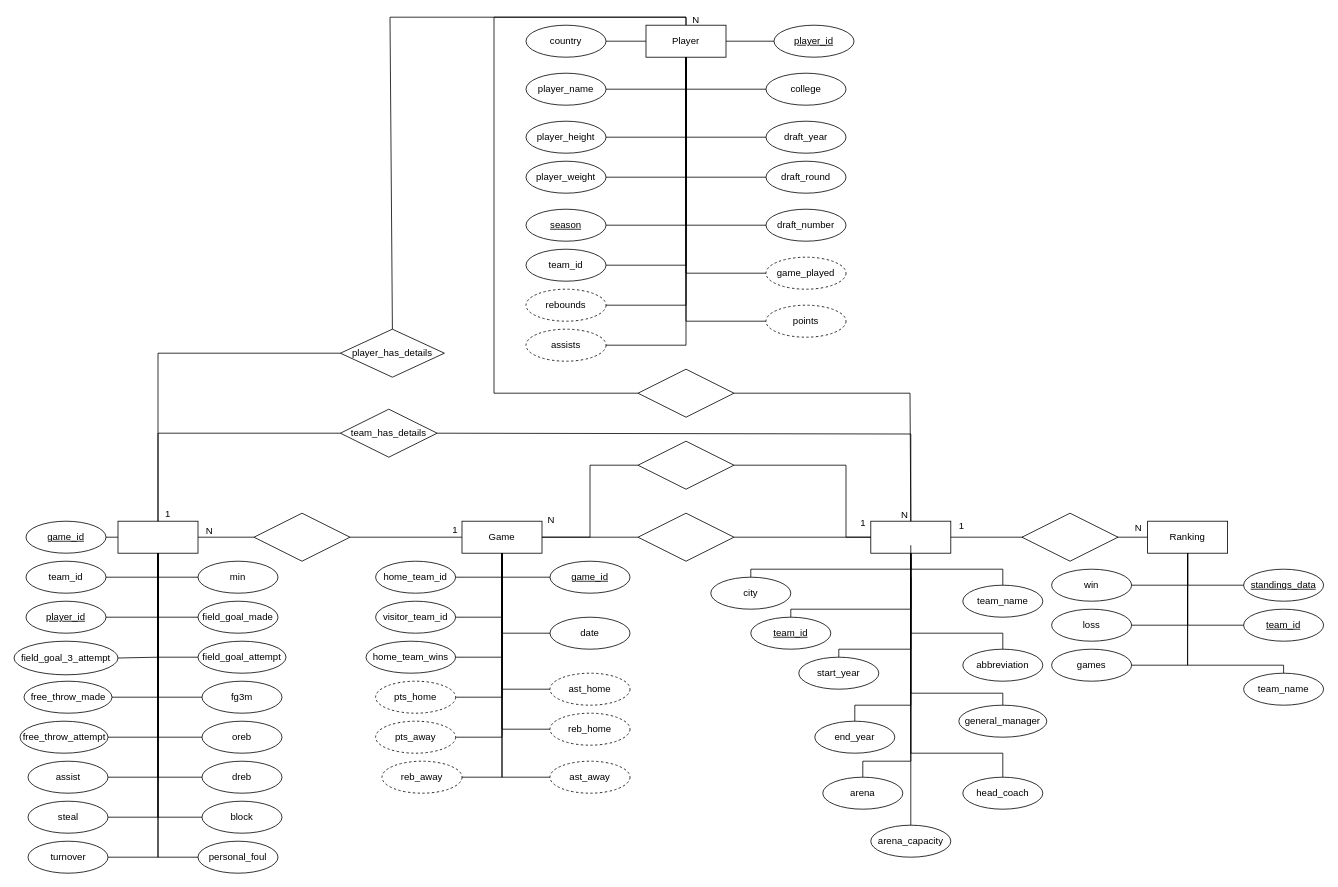
The diagram is 1338 pixels wide and 887 high, and some of its shapes have lost their labels. Each missing label, with the box of its shape:
Game Details: (117, 520, 198, 553)
has_details: (253, 512, 350, 561)
has_member: (637, 368, 734, 417)
has_rank: (1021, 512, 1118, 561)
plays_home: (637, 440, 734, 489)
plays_visitor: (637, 512, 734, 561)
Team: (870, 520, 951, 553)
